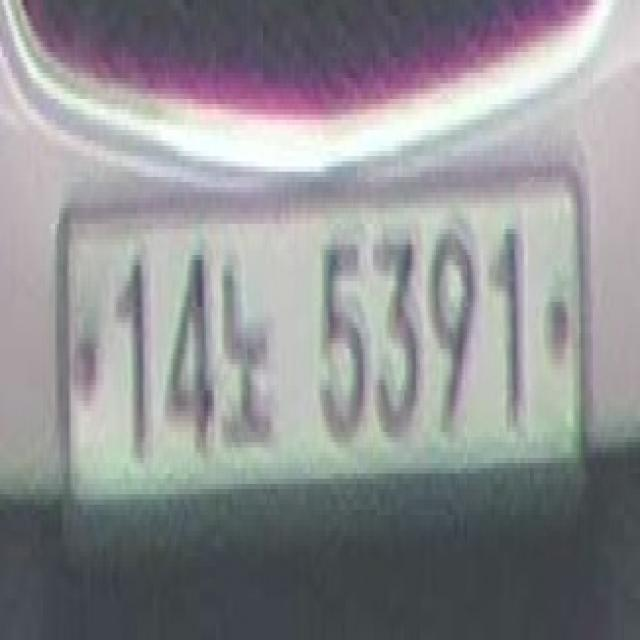1: (481, 198, 540, 452), (112, 239, 163, 484)
3: (371, 203, 422, 458)
4: (159, 239, 222, 484)
5: (312, 218, 373, 468)
9: (422, 187, 483, 458)
license_plate: (59, 156, 589, 557)
no: (220, 250, 283, 484)
